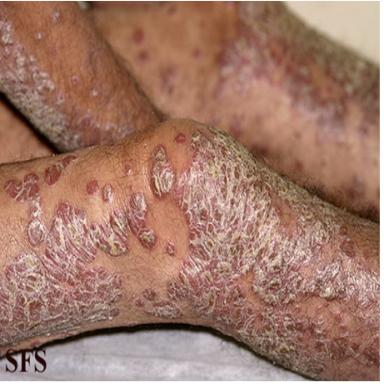Psoriasis: (135, 128, 379, 379), (1, 173, 155, 345), (0, 19, 78, 150), (151, 146, 175, 197), (102, 183, 113, 203), (86, 180, 99, 196), (166, 241, 176, 256)
